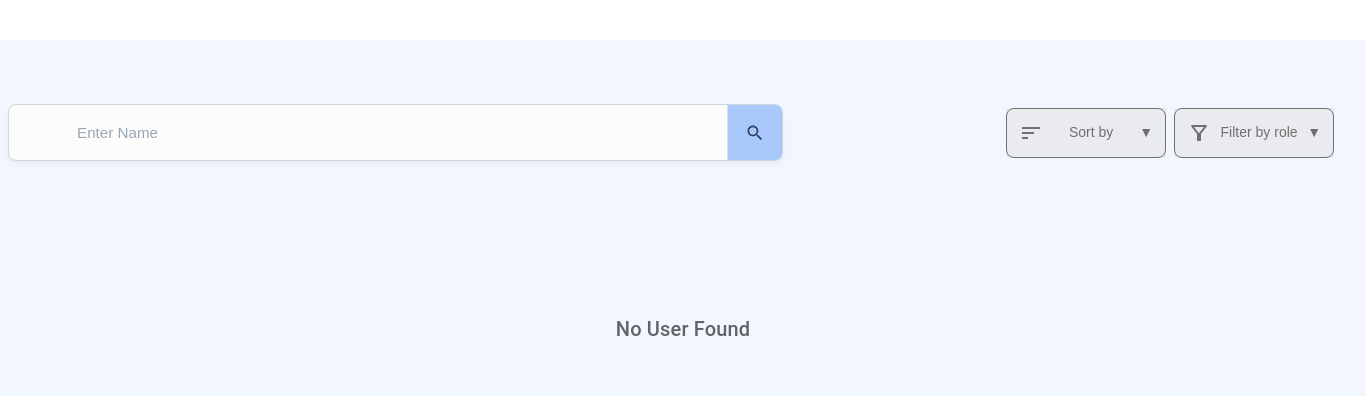
Testing Users screen › testing search not found
The width and height of the screenshot is (1366, 396).
Type "NonexistentName" into the search field with test id "searchByName".
click(360, 132); type("NonexistentName")  # box [29,124,691,141]
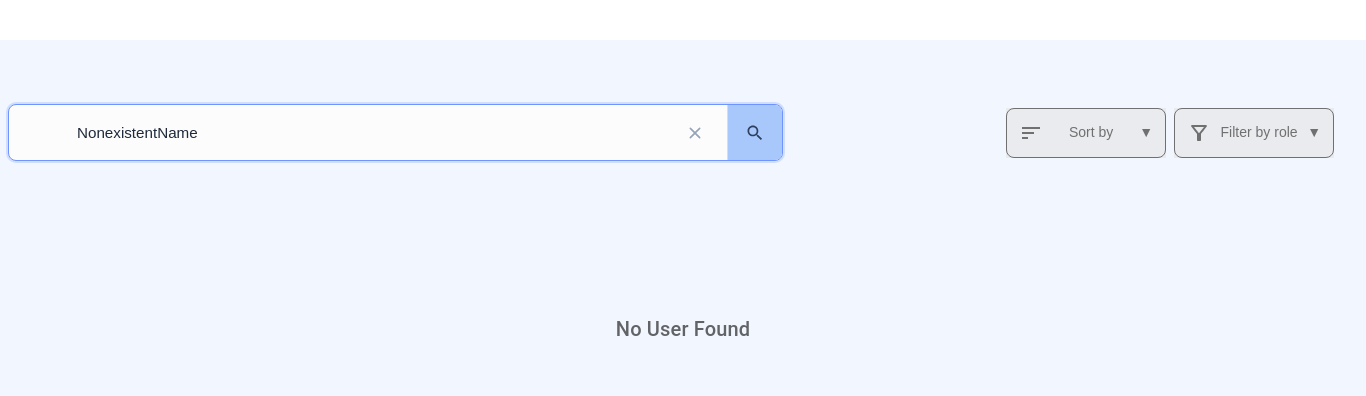
Click the button with test id "searchButton".
click(754, 132)  # box [727,105,782,160]
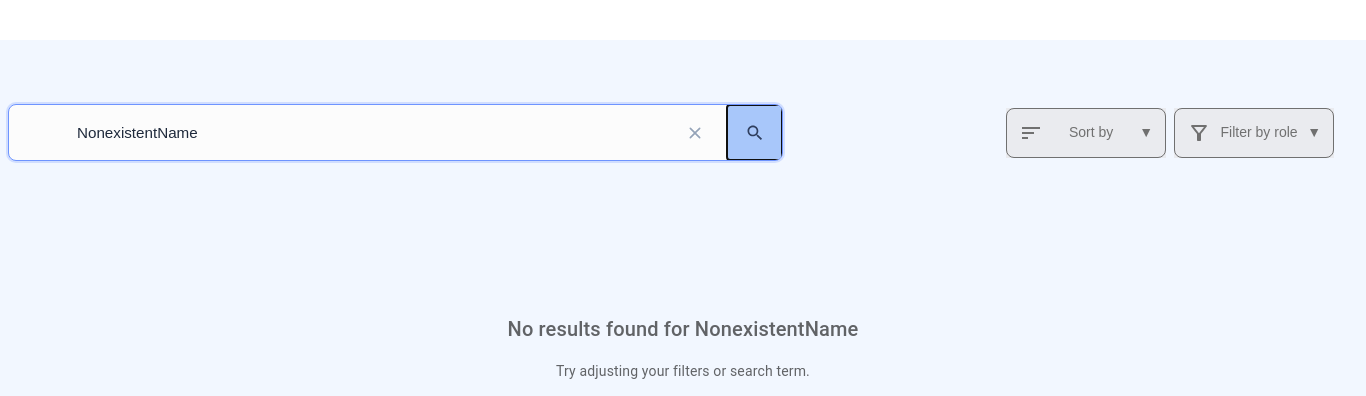
Expected: the message with test id "users-empty-state" is shown, [508,317,858,379]
Now the text with test id "users-empty-state-description" reads "Try adjusting your filters or search term.", box [556,363,810,379]
